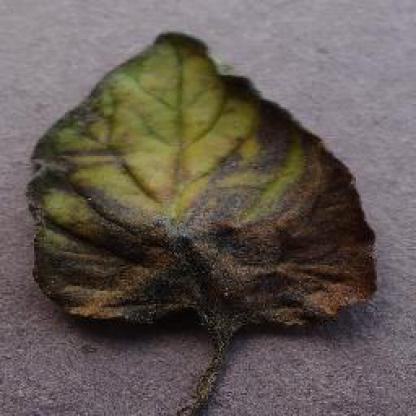bad leaf: (31, 30, 373, 308)
